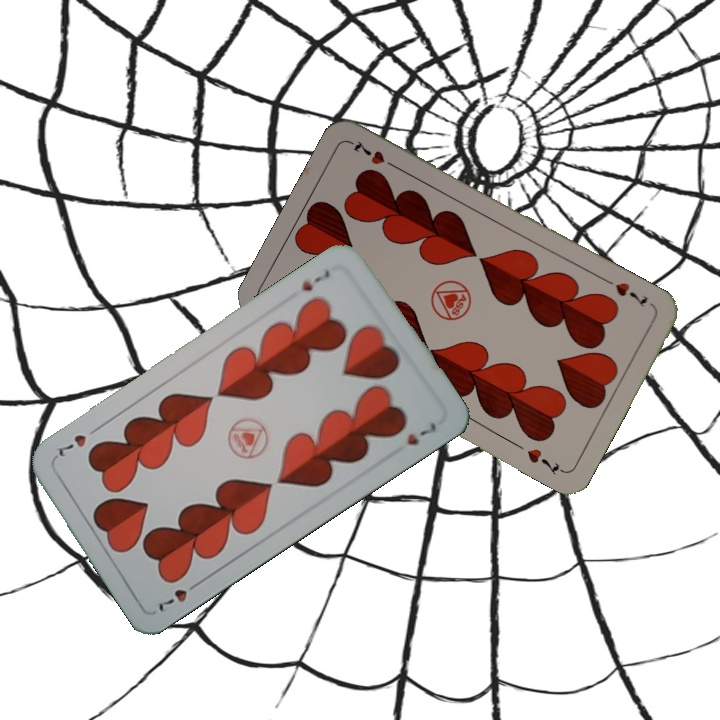H7: (154, 576, 204, 615), (611, 278, 651, 310), (297, 266, 333, 294)
